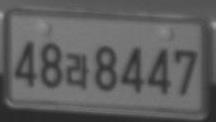4: (13, 40, 38, 87), (120, 47, 145, 94), (147, 49, 172, 93)
7: (174, 49, 199, 96)
8: (94, 45, 118, 91), (40, 42, 62, 89)
라: (65, 51, 90, 90)
